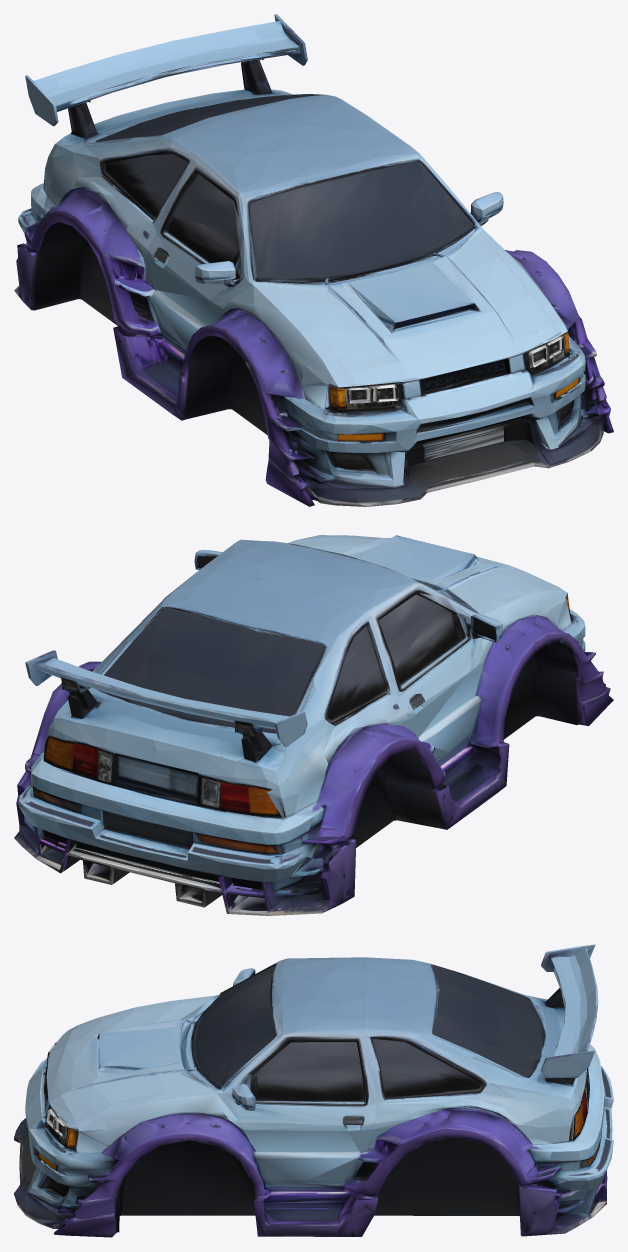
The model's file is carTwo.glb.
The picture shows the model from 3 angles, top to bottom: view 1: azimuth 30°, elevation 25°; view 2: azimuth 150°, elevation 25°; view 3: azimuth 270°, elevation 25°; orthographic projection. The views are drawn at different scales.
Visible parts, largest first — view 1: material; view 2: material; view 3: material.
Boxes of the visible parts, left/top/right/bottom form: material: left=14, top=14, right=613, bottom=506; material: left=14, top=535, right=613, bottom=915; material: left=14, top=944, right=613, bottom=1237.
Size of the model in its own units: 0.4153 by 0.2546 by 0.7598.
Materials: 1 (1 with a texture image).
